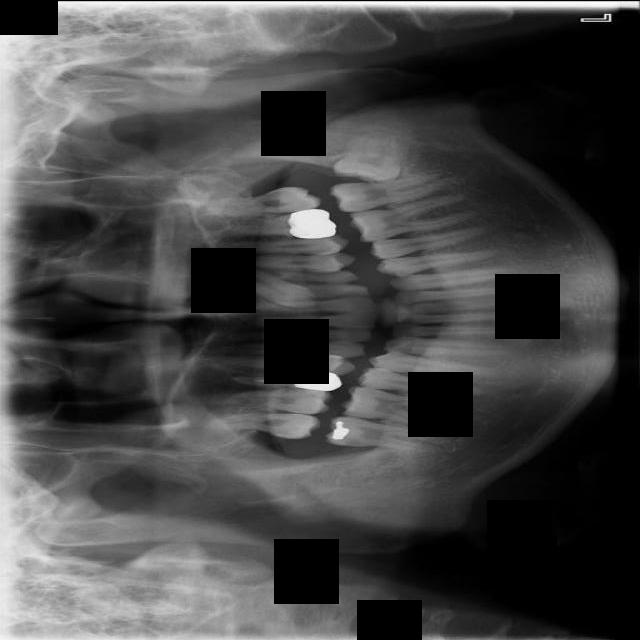52: (287, 207, 337, 239), (324, 415, 365, 445), (290, 370, 343, 392), (346, 438, 362, 444)
73: (232, 372, 299, 387), (613, 12, 619, 20)
BioHorizons Implant: (186, 183, 322, 222)
Biomet 3i Implant: (333, 135, 407, 186)
Blue Sky Bio Implant: (327, 170, 448, 215)
Caries: (199, 408, 322, 439)
Implant: (324, 413, 444, 454)
